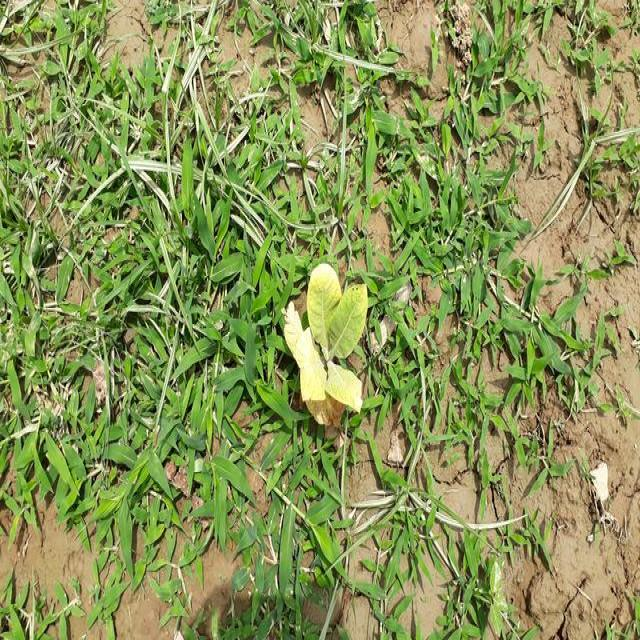crop: (275, 241, 376, 433)
